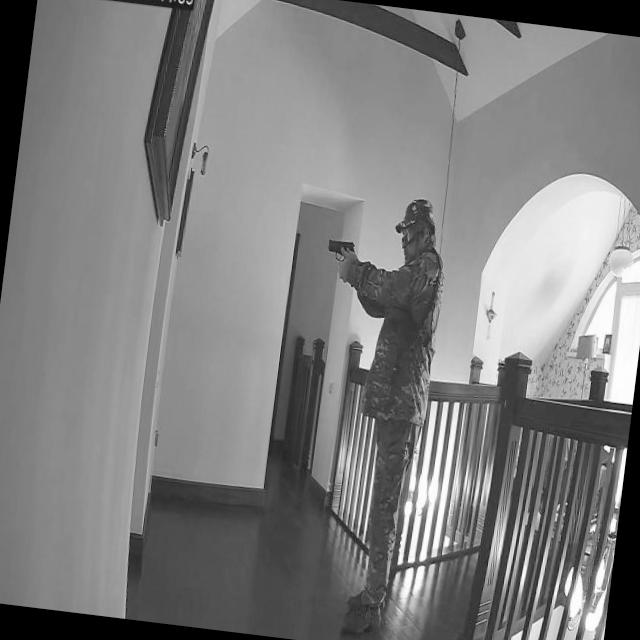gun: (325, 234, 356, 266)
person with a gun: (311, 191, 454, 640)
